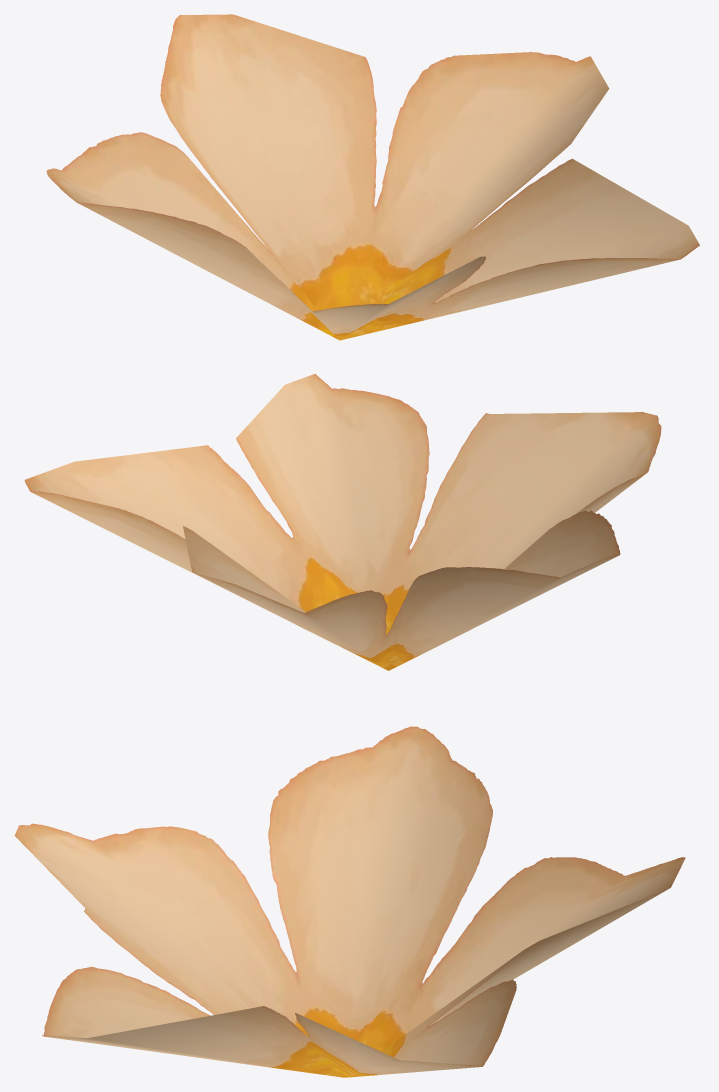
The model's file is flower_petal_free_model.glb.
3 renders of one model, top to bottom at view 1: azimuth 30°, elevation 25°; view 2: azimuth 150°, elevation 25°; view 3: azimuth 270°, elevation 25°, orthographic. The views are drawn at different scales.
Parts seen in each view (by area): view 1: Petal_2; view 2: Petal_2; view 3: Petal_2.
Part boxes in pixels (left/top/right/bottom): Petal_2: left=46, top=14, right=699, bottom=340; Petal_2: left=24, top=374, right=661, bottom=670; Petal_2: left=14, top=726, right=685, bottom=1077.
Size of the model in its own units: 0.6732 by 0.2361 by 0.6311.
Materials: 1 (1 with a texture image).
